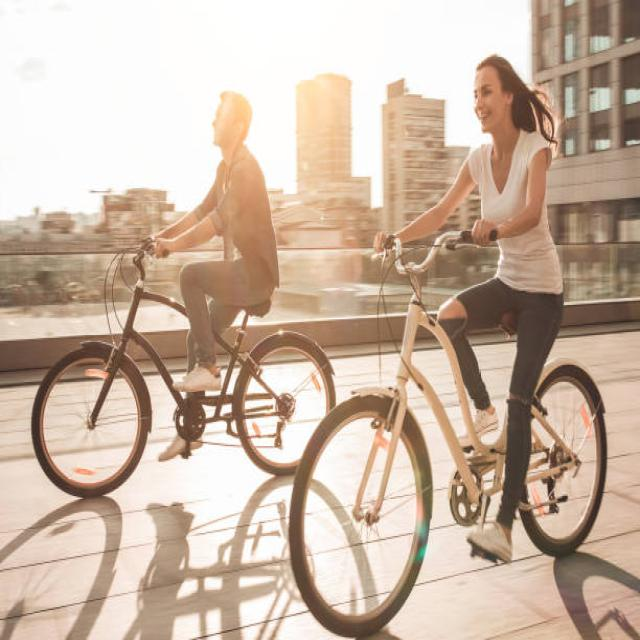bicycle: (289, 56, 608, 636), (31, 92, 335, 497)
